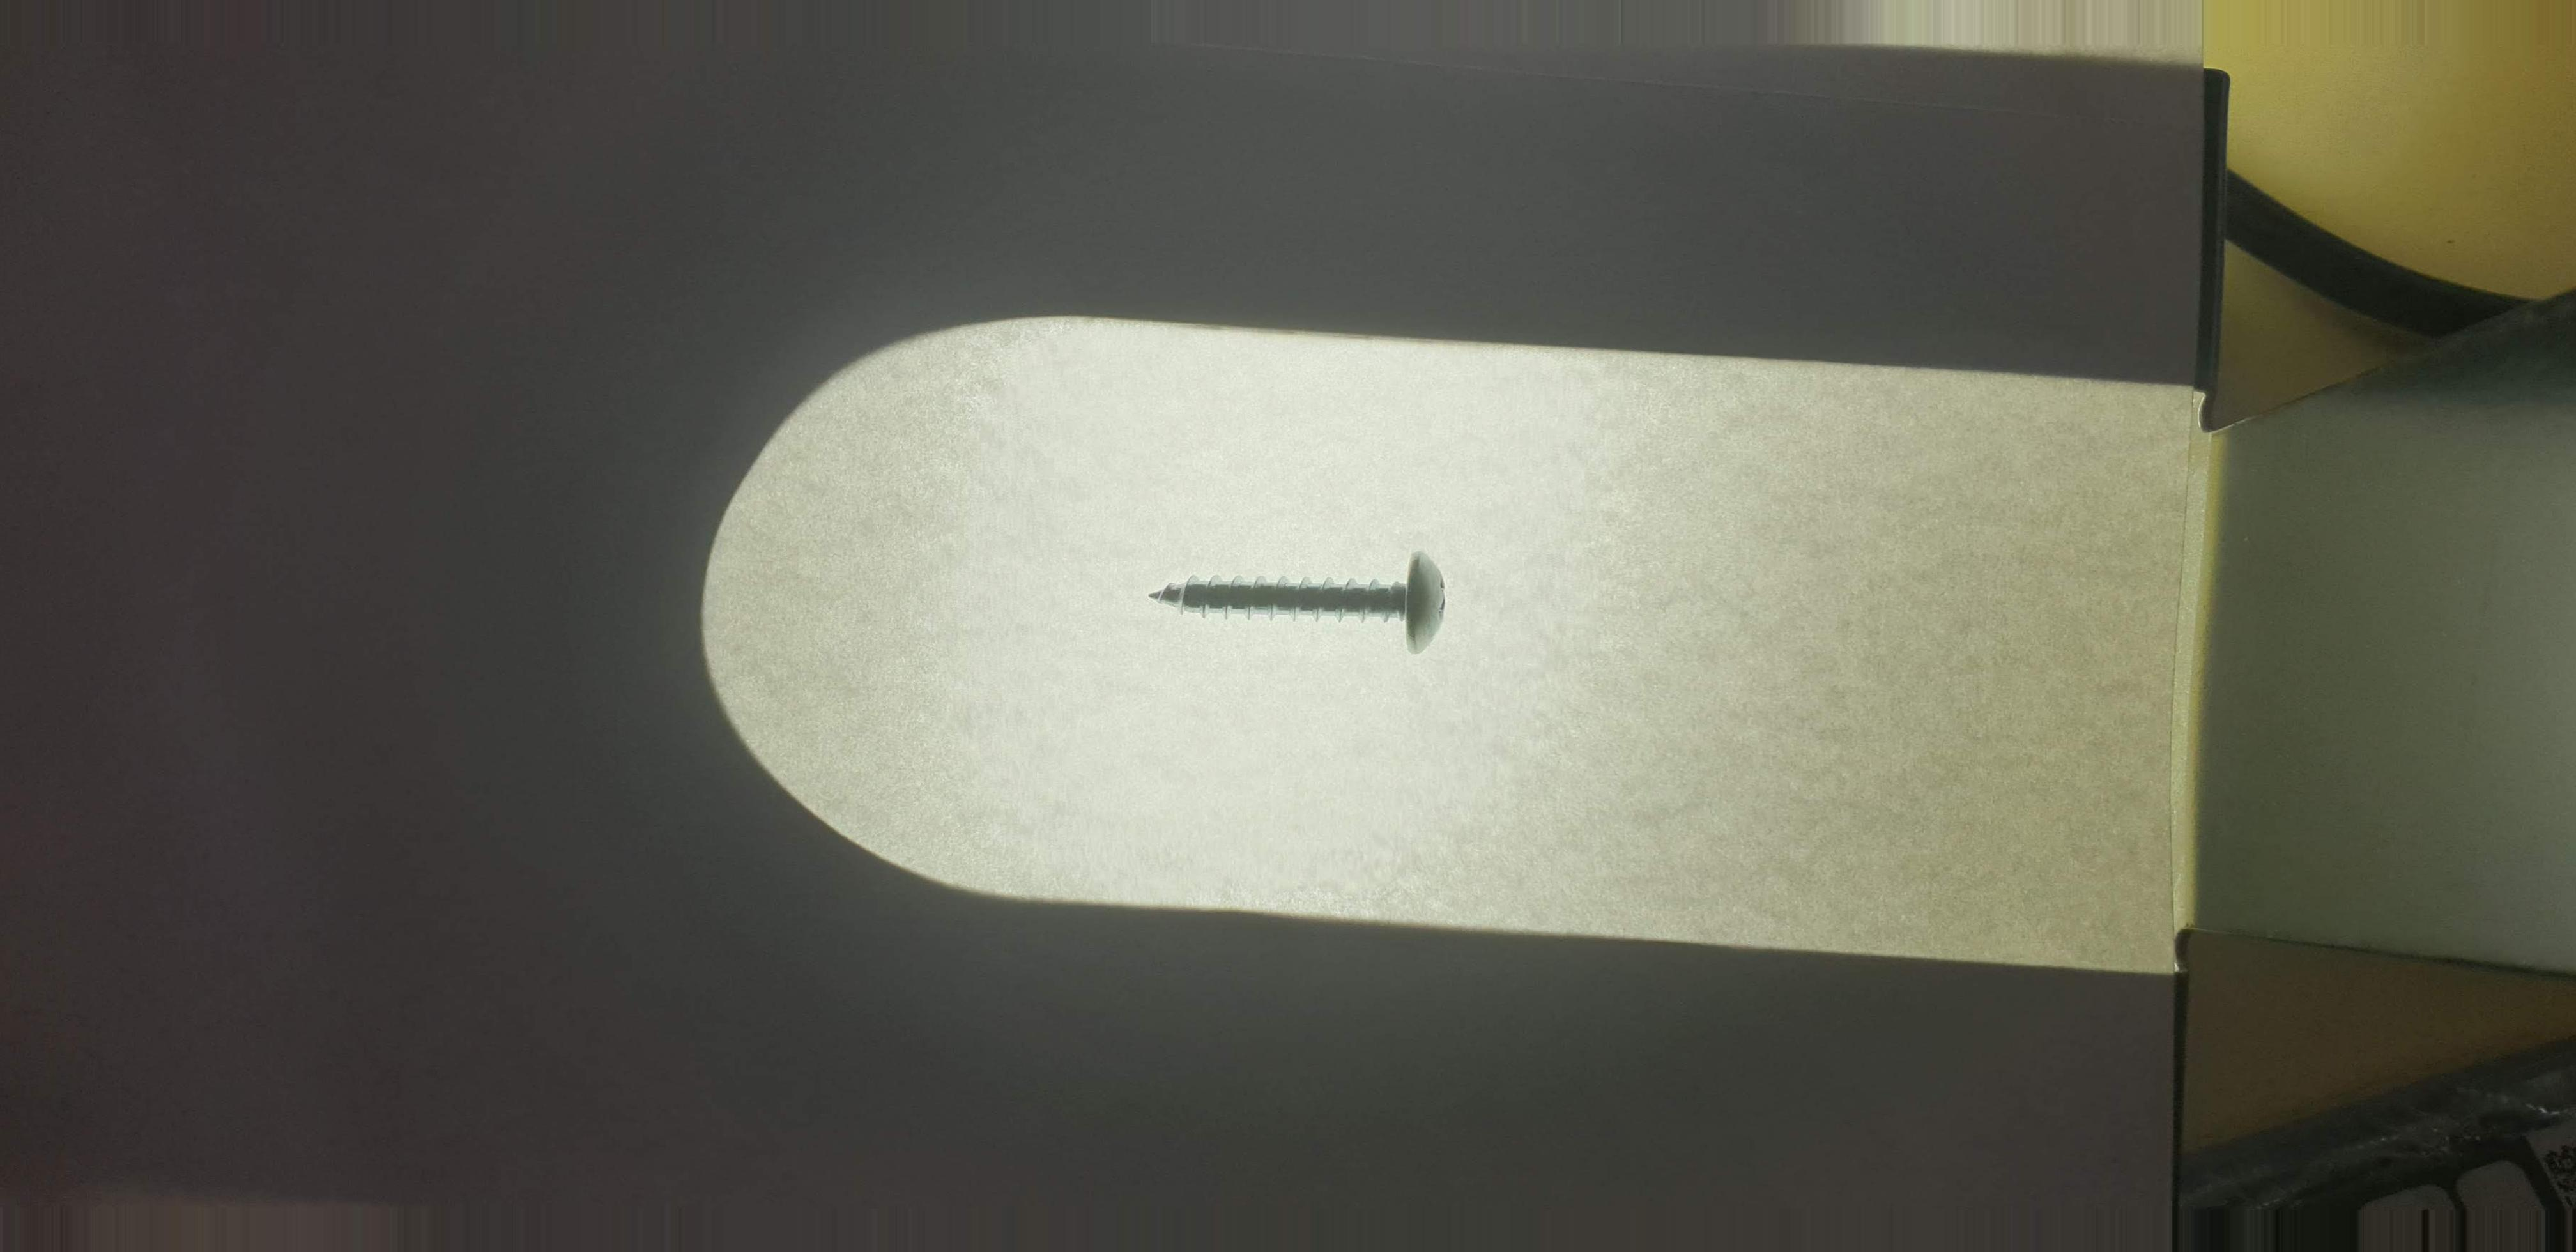S002: (1120, 521, 1526, 685)
